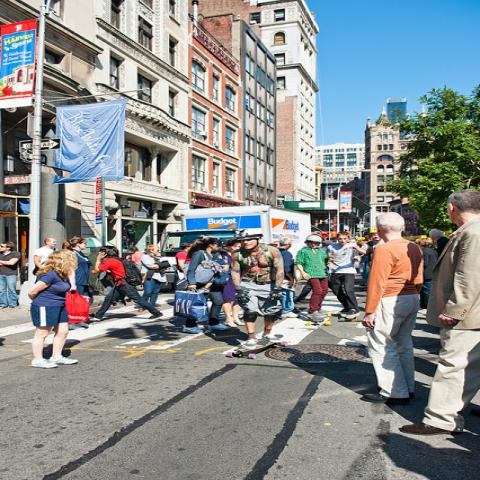truck: (160, 205, 312, 285)
